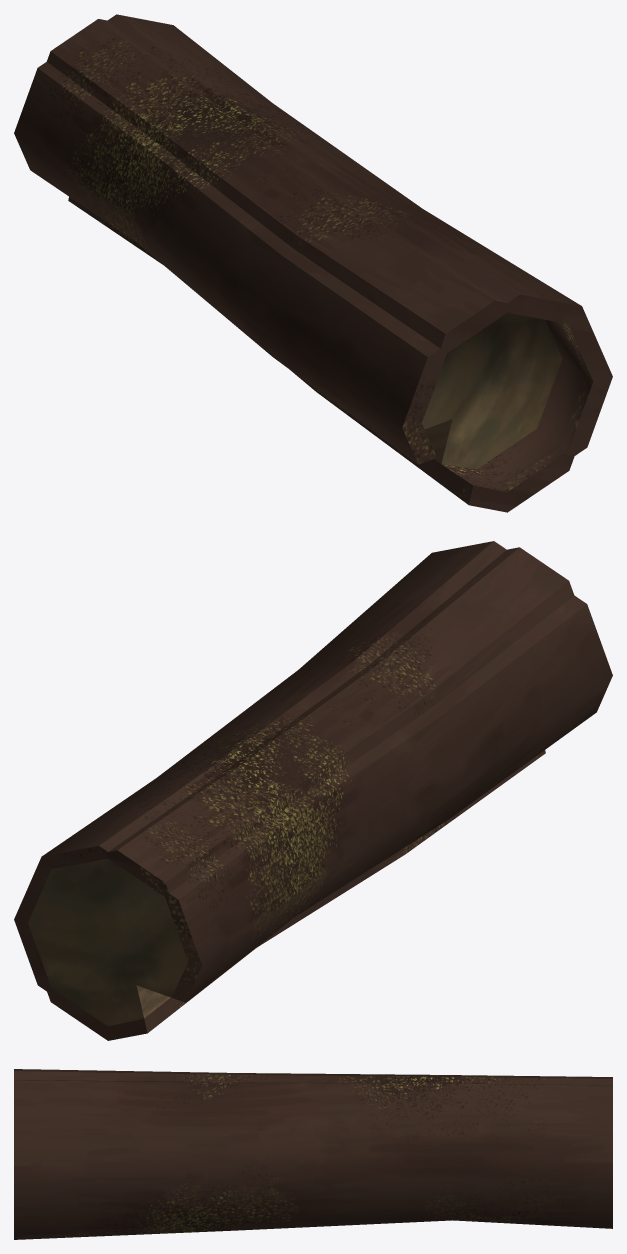
The model's file is Driftwood01.fbx.
3 views of the same model, one above another, from view 1: azimuth 30°, elevation 25°; view 2: azimuth 150°, elevation 25°; view 3: azimuth 270°, elevation 25° (orthographic). The views are drawn at different scales.
Visible parts, largest first — view 1: DriftWood01; view 2: DriftWood01; view 3: DriftWood01.
Part boxes in pixels (left/top/right/bottom): DriftWood01: left=14, top=14, right=612, bottom=512; DriftWood01: left=14, top=541, right=612, bottom=1040; DriftWood01: left=14, top=1069, right=612, bottom=1239.
Size of the model in its own units: 0.702 by 0.6845 by 2.3.
Materials: 2 (2 with a texture image).
